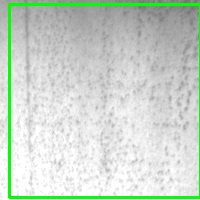pitted_surface: (9, 4, 200, 197)
